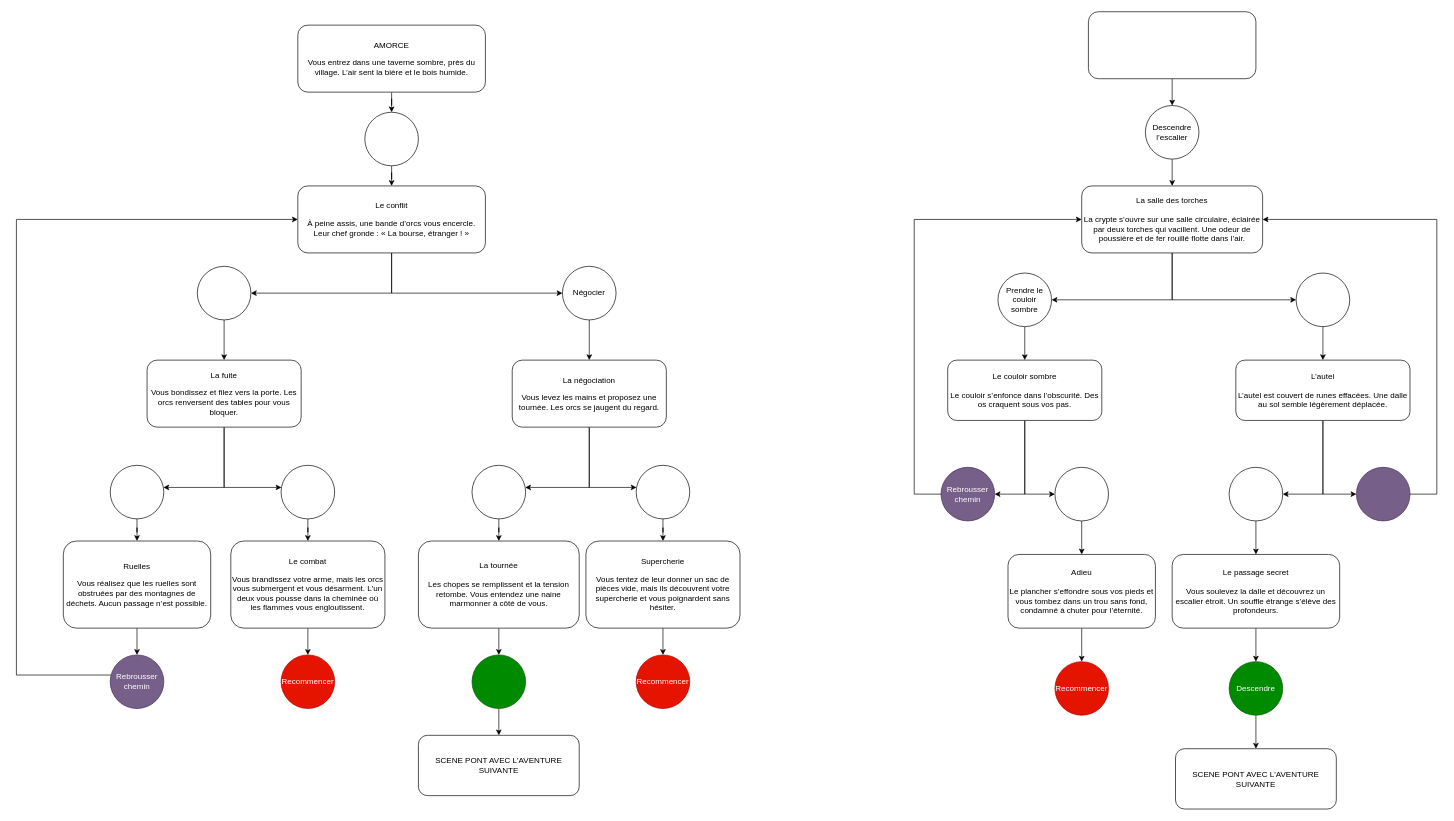
The diagram is 1454 pixels wide and 821 high, and some of its shapes have lost their labels. The shapes that lost their labels are listed below. From the top down, each one's box as (x1, y1, x2, y2) in pixels, then its label:
(1088, 11, 1256, 79): AMORCE Vous arrivez devant l’entrée d’une crypte cachée sous un vieux cimetière.
(364, 112, 418, 166): S’asseoir au bar
(197, 266, 251, 320): Fuir
(1295, 272, 1350, 327): Examiner l’autel
(110, 465, 164, 519): Prendre les ruelles
(280, 465, 335, 519): Dégainer l’arme
(471, 465, 526, 519): Payer une tournée
(635, 465, 690, 519): Arnaquer les orcs
(1054, 467, 1109, 521): Continuer malgré tout
(1228, 467, 1283, 521): Ouvrir la dalle
(1356, 467, 1410, 521): Ignorer et revenir en arrière
(471, 654, 526, 709): Trendre l'oreille
